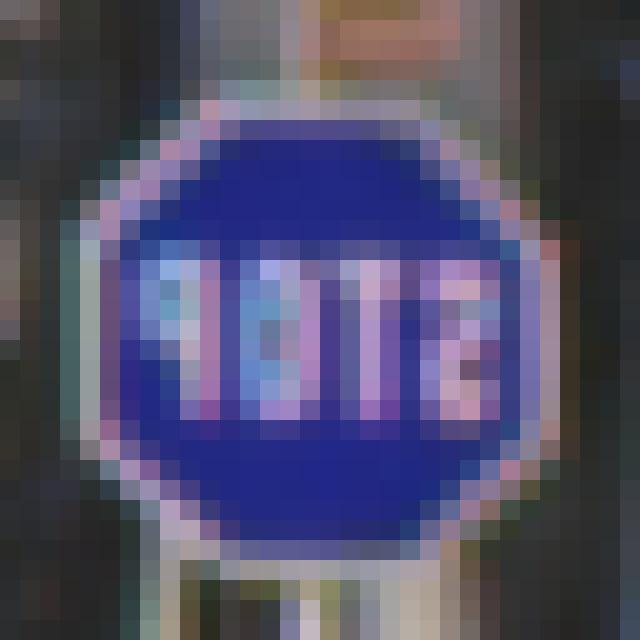STOP: (89, 110, 534, 559)
